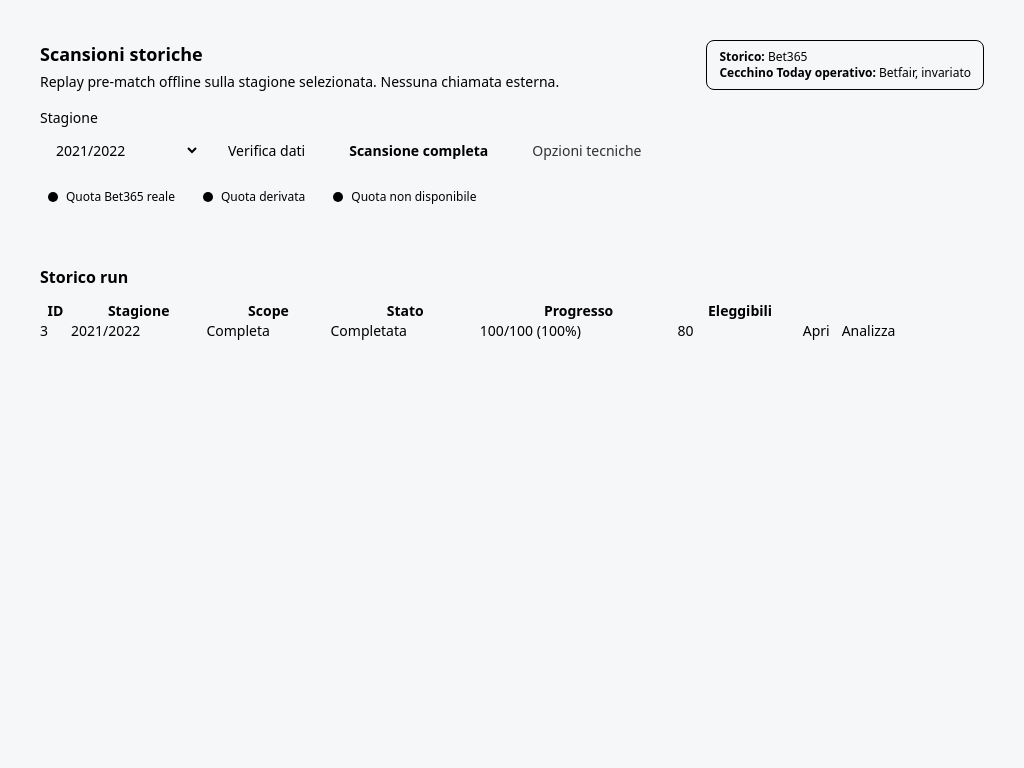
Test: HistoricalScansTab Pattern Lab navigation › mostra Apri e Analizza; Apri apre il pannello run; nasconde i vecchi 5 pulsanti
The image size is (1024, 768).
Expected: the link with test id "historical-analyze-link-3" is shown, x1=842 y1=321 x2=895 y2=340
Click the button with test id "historical-open-link-3". click: (816, 331)
box: x1=803 y1=321 x2=830 y2=341
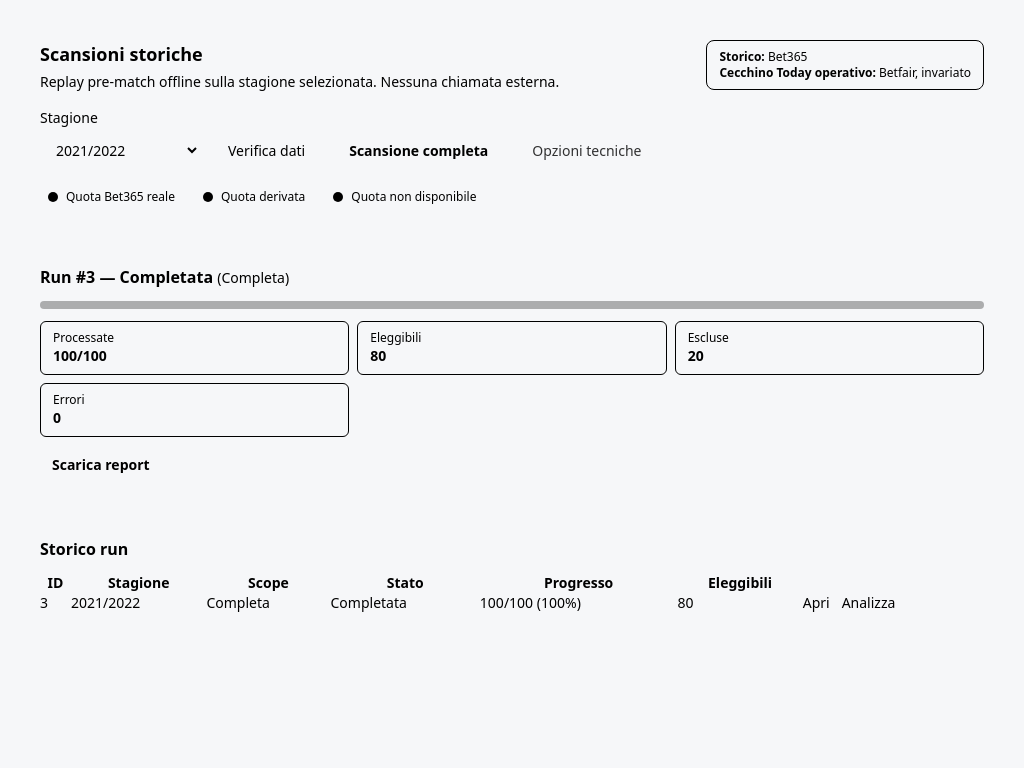
Expected: the heading "Run #3 — Completata (Completa)" is shown, x1=40 y1=266 x2=289 y2=288
Expected: the button "Scarica report" is shown, x1=40 y1=449 x2=162 y2=481
